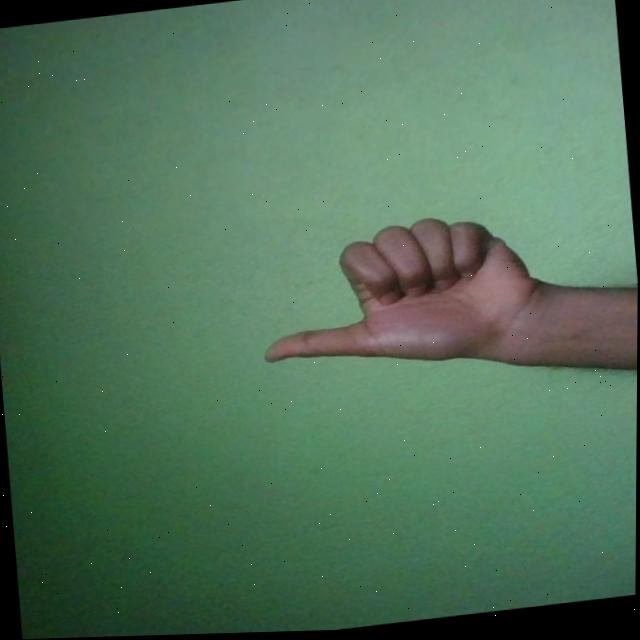Good Job: (252, 206, 551, 383)
